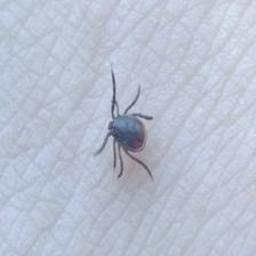Ixodes scapularis: (98, 69, 156, 184)
